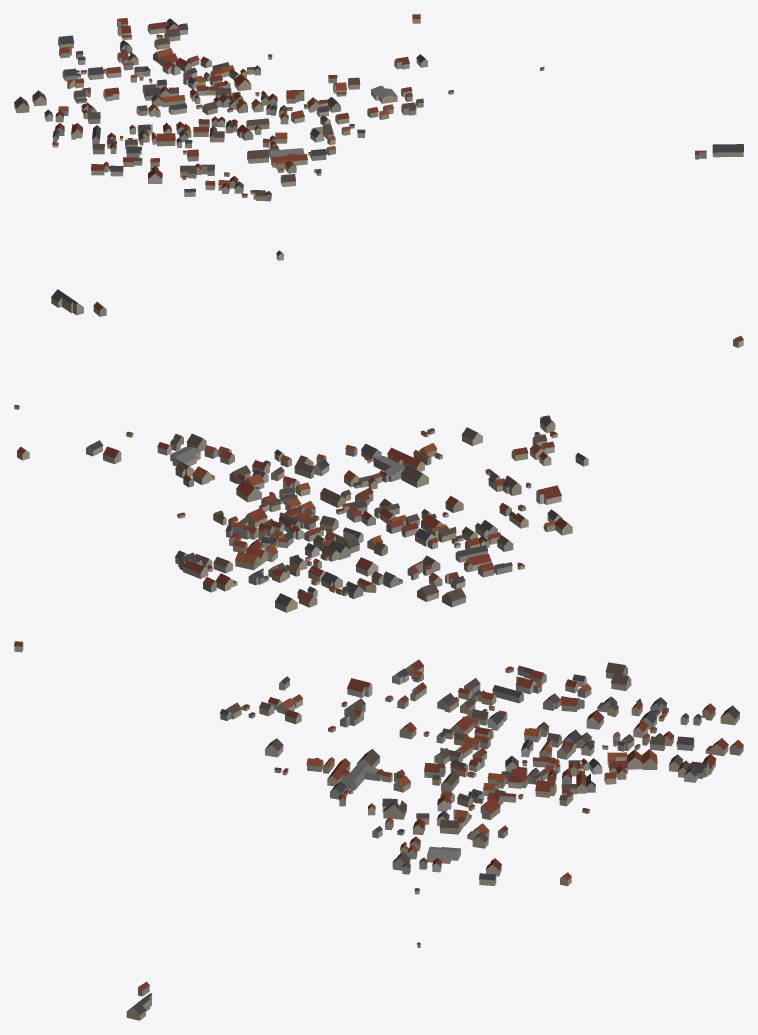
The picture shows the model from 3 angles, top to bottom: view 1: azimuth 30°, elevation 25°; view 2: azimuth 150°, elevation 25°; view 3: azimuth 270°, elevation 25°; orthographic projection. The views are drawn at different scales.
Visible parts, largest first — view 1: buildings; view 2: buildings; view 3: buildings.
Boxes of the visible parts, x1,y1,x2,y2 form: buildings: (14,14,743,260); buildings: (14,289,743,612); buildings: (14,641,743,1020).
Bounding box in the file's own units: 684 × 74.15 × 657.
